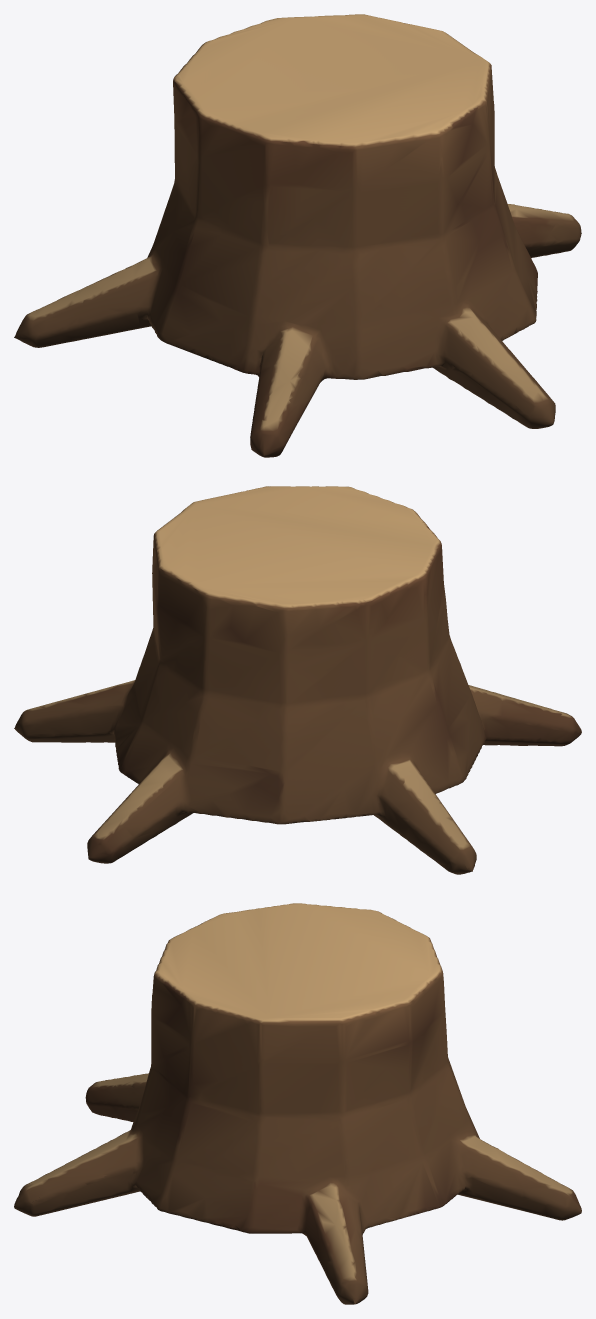
File: stump.glb
3 views of the same model, one above another, from view 1: azimuth 30°, elevation 25°; view 2: azimuth 150°, elevation 25°; view 3: azimuth 270°, elevation 25° (orthographic). The views are drawn at different scales.
Visible parts, largest first — view 1: stump_LOD0; view 2: stump_LOD0; view 3: stump_LOD0.
Boxes of the visible parts, x1,y1,x2,y2 form: stump_LOD0: [14, 14, 581, 457]; stump_LOD0: [14, 486, 581, 874]; stump_LOD0: [14, 903, 581, 1304].
Size of what is drawn, in the model's own units: 1.07 by 0.4899 by 1.1.
